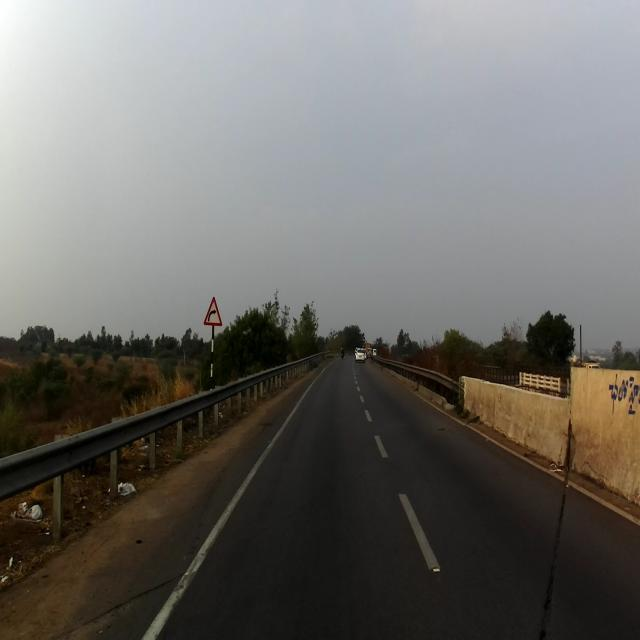car: (355, 348, 365, 362)
